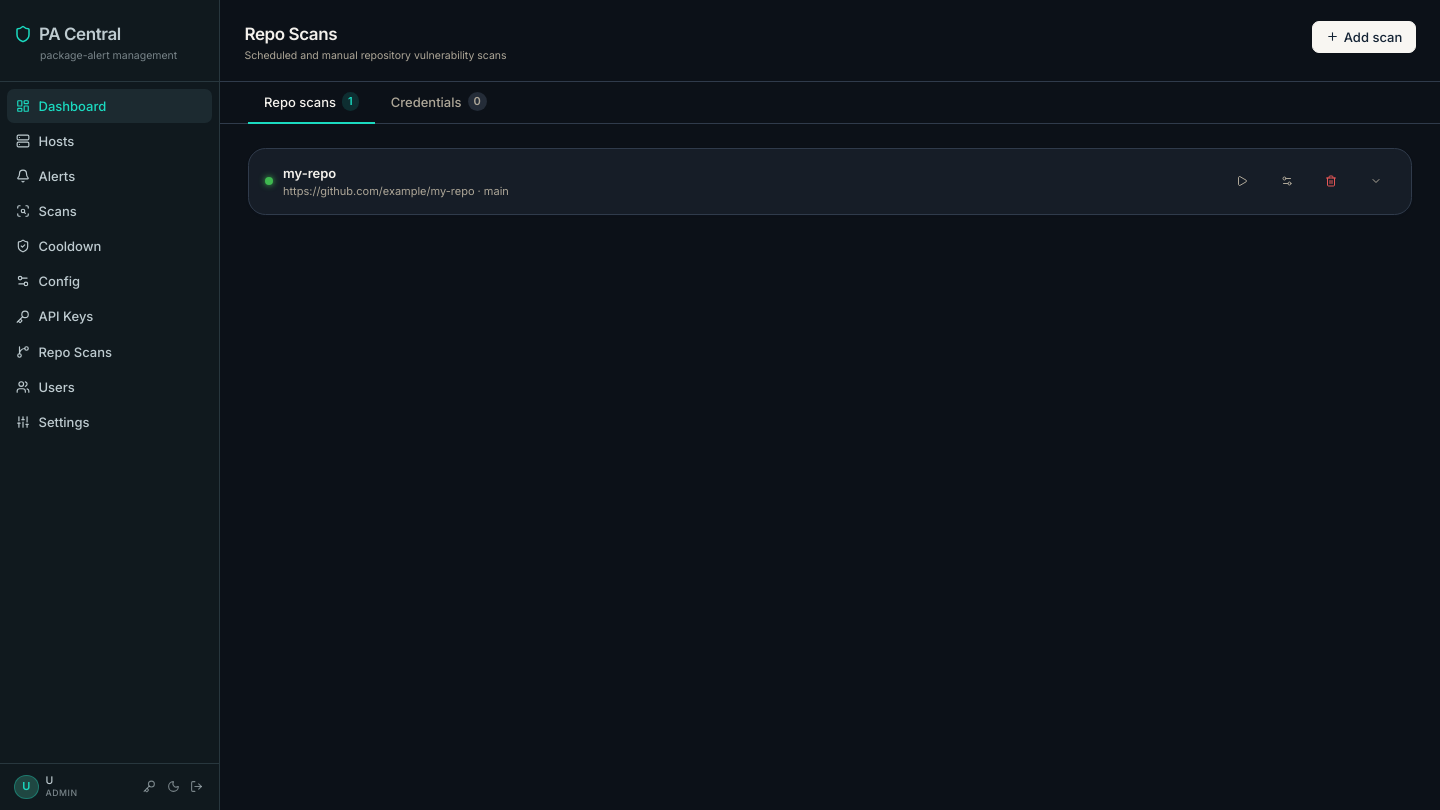
it: RepoScans settings edit — save failure › closes the settings panel when save succeeds
Click the button named "open settings for my-repo" at (1287, 181), box [1268, 166, 1306, 197]
(page scrolled)
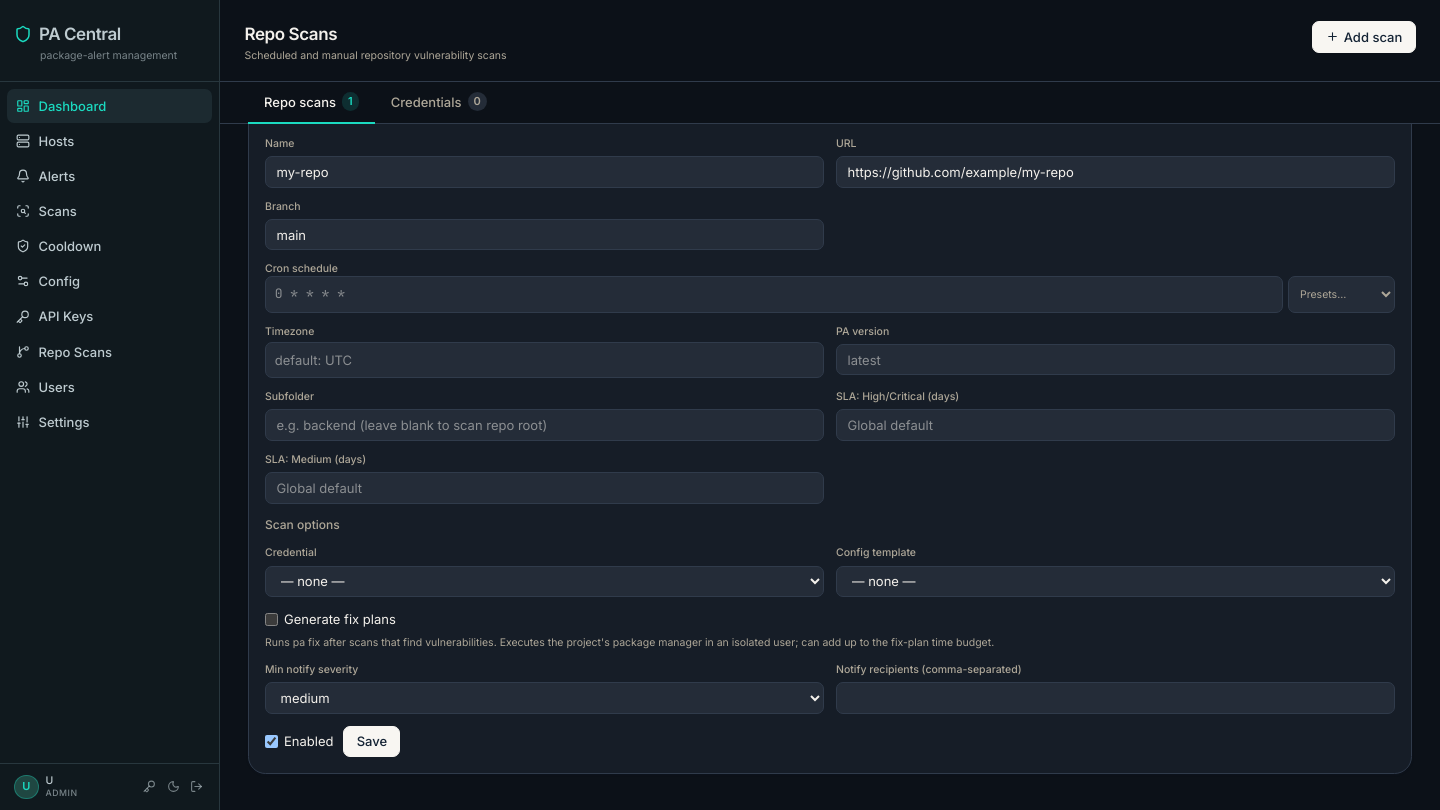
Click the button "Save" at (372, 741), box [344, 726, 400, 757]
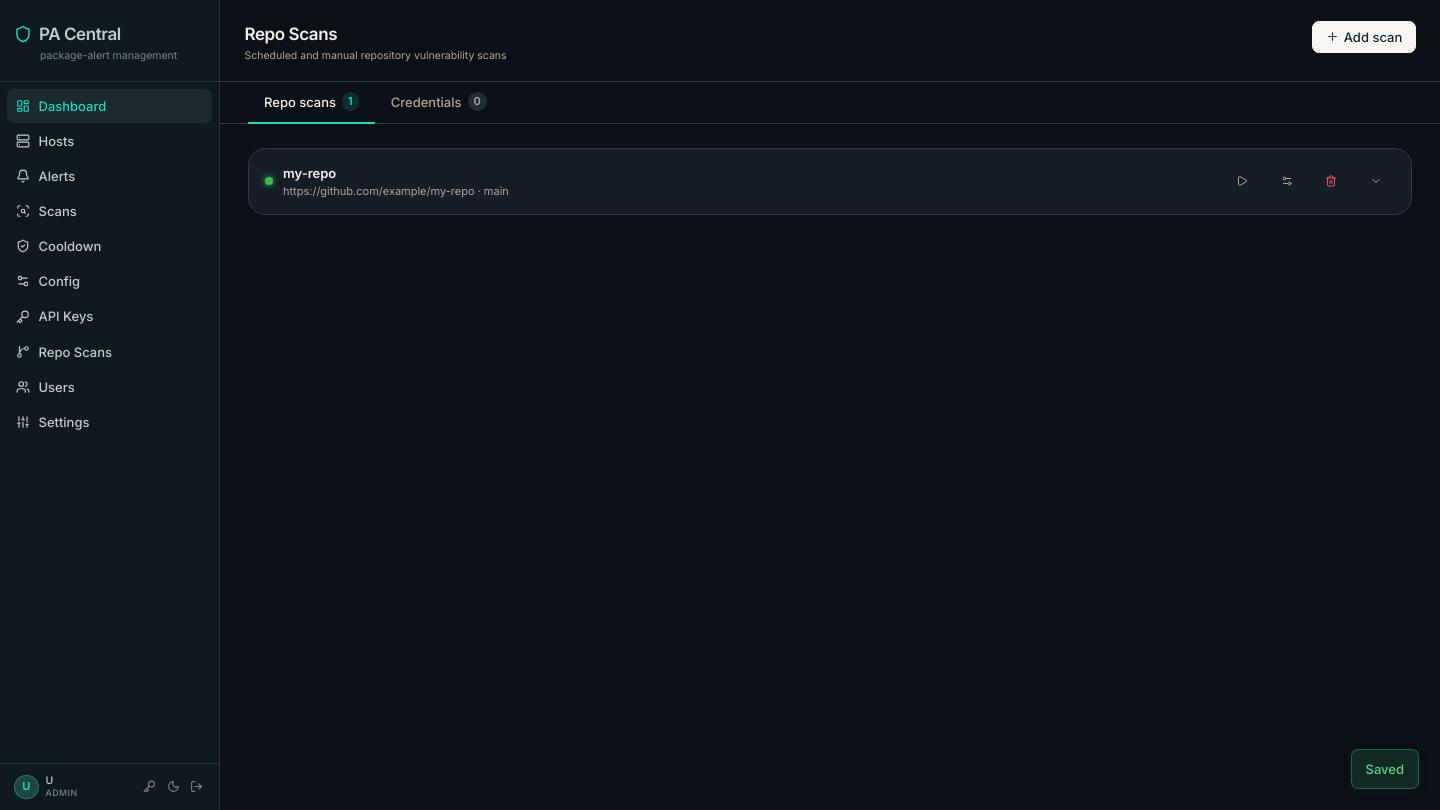
Check: the text "Saved" is shown, box [1350, 749, 1419, 789]
Check: the button named "open settings for my-repo" is shown, box [1268, 166, 1306, 197]
